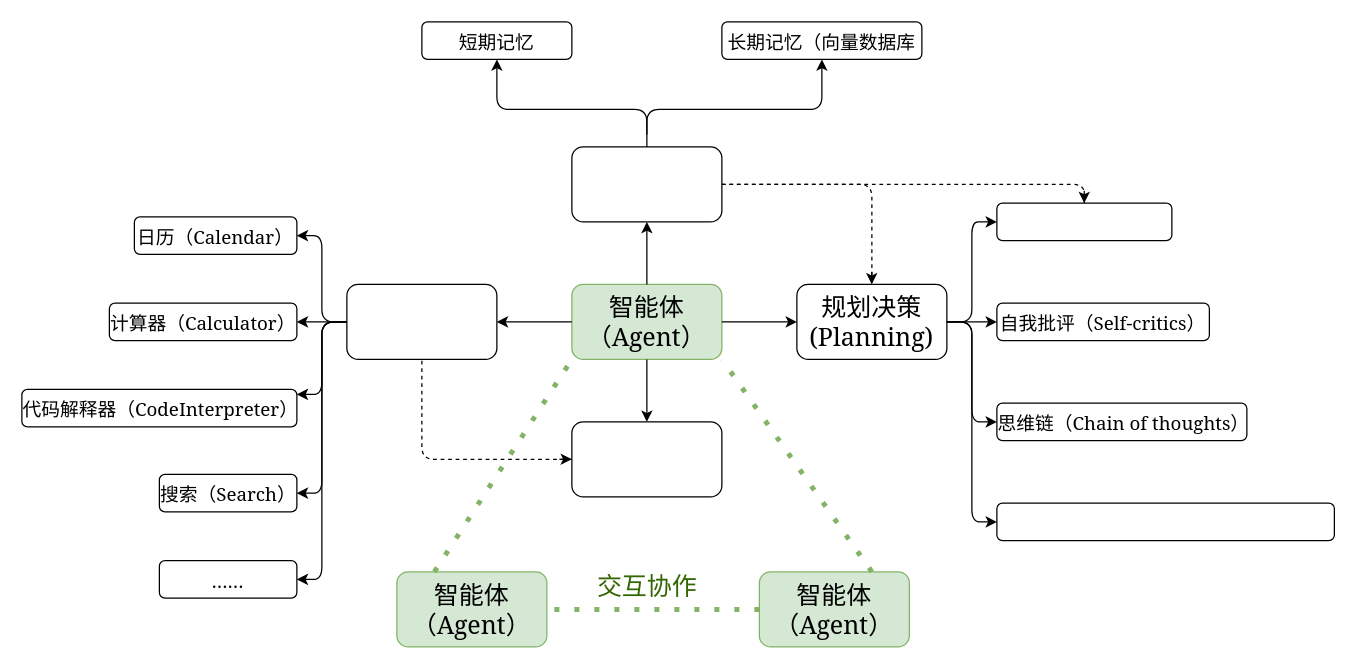
Image size: 1356x669. Some labels were removed from this diagram. Here are the shapes that lost their labels. From the top down, the box of each, then its label:
(571, 146, 722, 222): 记忆(Memory)
(996, 202, 1172, 241): 反思（Reflection）
(346, 283, 497, 359): 工具（Tools）
(571, 421, 722, 497): 行动（Action）
(996, 502, 1334, 541): 子目标分解（Subgoal decomposition）
